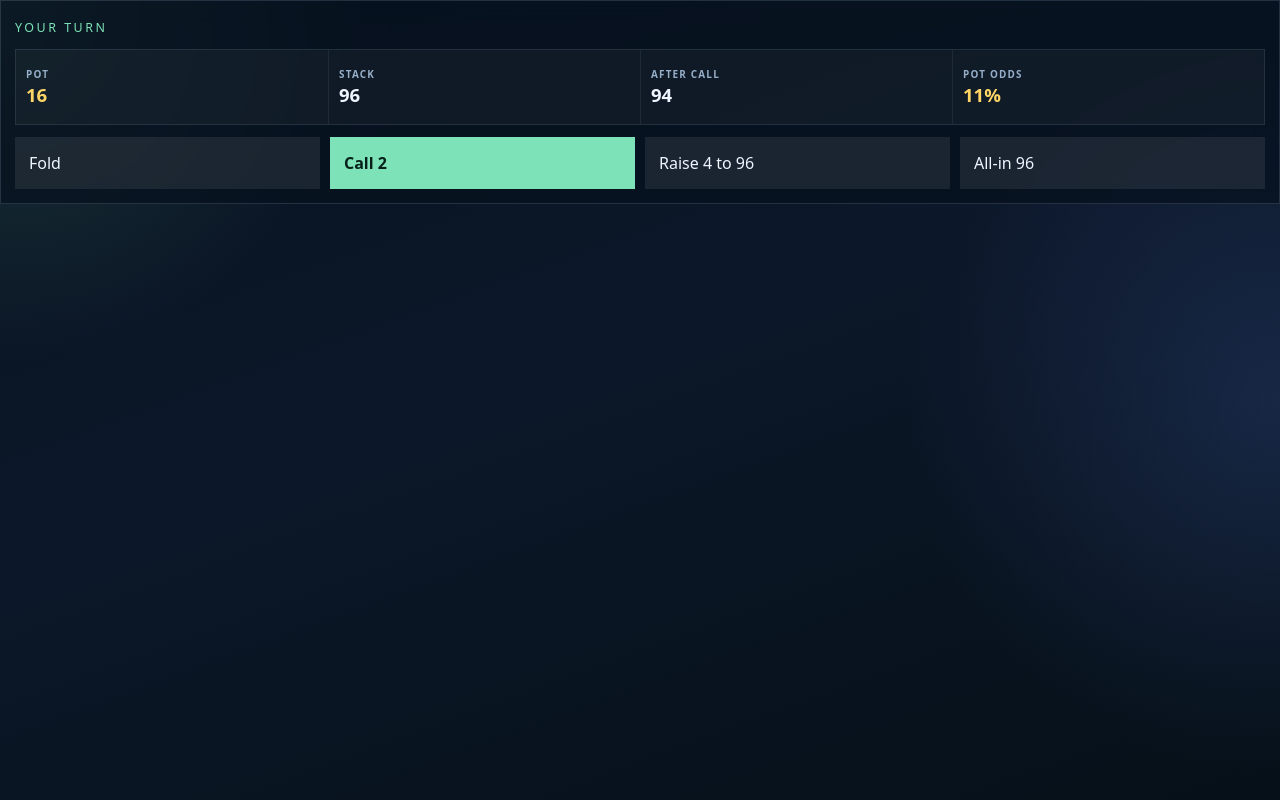
it: ActionBar › expands betting controls instead of submitting immediately when bet is clicked
This screenshot has width=1280, height=800.
Click the button "Raise 4 to 96" at (707, 163), box left=645, top=137, right=950, bottom=189
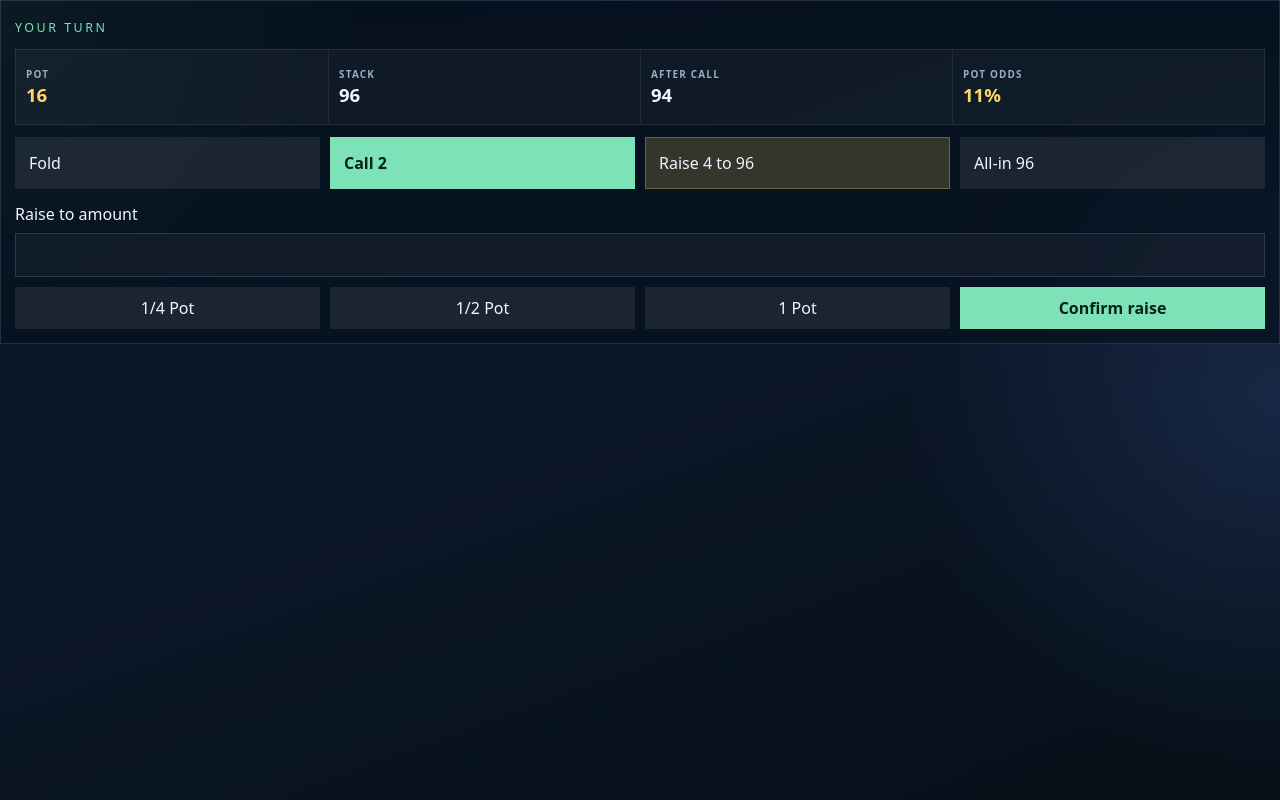
Check: the number field labelled "Raise to amount" is shown, box left=15, top=233, right=1265, bottom=277
Check: the button "1/4 Pot" is shown, box left=15, top=287, right=320, bottom=329
Check: the button "1/2 Pot" is shown, box left=330, top=287, right=635, bottom=329
